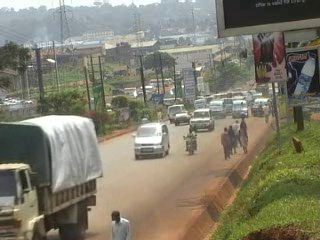Car: (129, 120, 171, 160), (186, 106, 217, 134), (173, 110, 193, 126)
Motorcycle: (181, 133, 199, 156)
